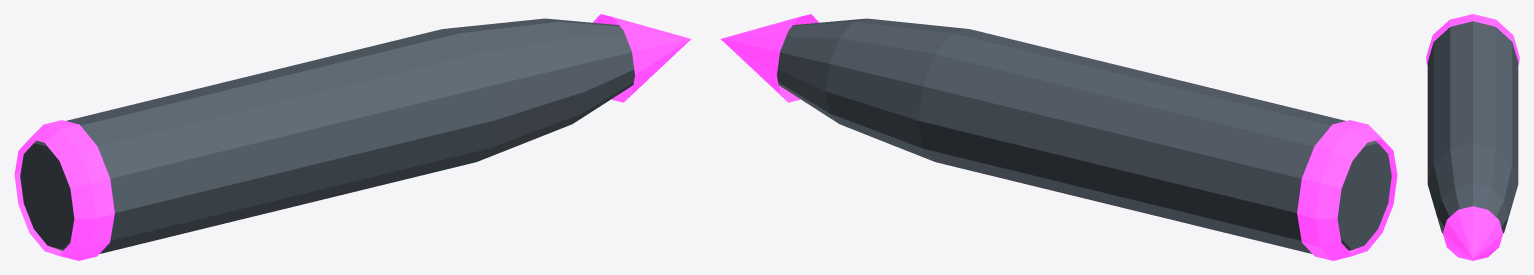
The model's file is neonpulse.glb.
3 views of the same model, side by side, from view 1: azimuth 30°, elevation 25°; view 2: azimuth 150°, elevation 25°; view 3: azimuth 270°, elevation 25° (orthographic). The views are drawn at different scales.
Visible parts, largest first — view 1: Projectile / tapered copper-alloy jacket.014, Projectile / rear tracer compound.014, Projectile / luminous nose.014; view 2: Projectile / tapered copper-alloy jacket.014, Projectile / rear tracer compound.014, Projectile / luminous nose.014; view 3: Projectile / tapered copper-alloy jacket.014, Projectile / luminous nose.014, Projectile / rear tracer compound.014.
Part boxes in pixels (x1,y1,x2,y2): Projectile / tapered copper-alloy jacket.014: (20,18,634,253); Projectile / rear tracer compound.014: (14,120,114,260); Projectile / luminous nose.014: (593,14,690,102); Projectile / tapered copper-alloy jacket.014: (777,18,1391,253); Projectile / rear tracer compound.014: (1297,120,1397,260); Projectile / luminous nose.014: (721,14,818,102); Projectile / tapered copper-alloy jacket.014: (1427,21,1518,233); Projectile / luminous nose.014: (1442,206,1503,260); Projectile / rear tracer compound.014: (1426,14,1519,65).
Size of the model in its own units: 0.424 by 0.08 by 0.08.
